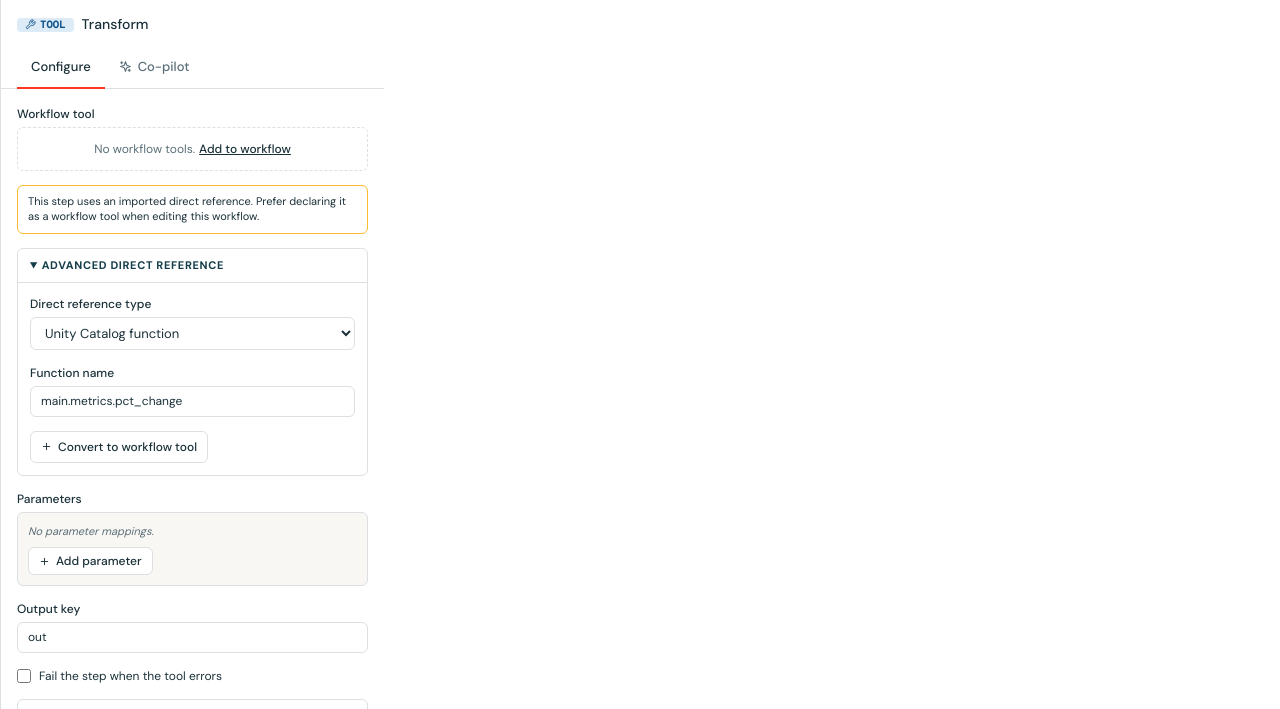
Test: ToolStepForm signature mapping › prefills the picker with a direct ref FQN when converting
Click the button "Convert to workflow tool". click: (119, 447)
box: [30,431,208,463]
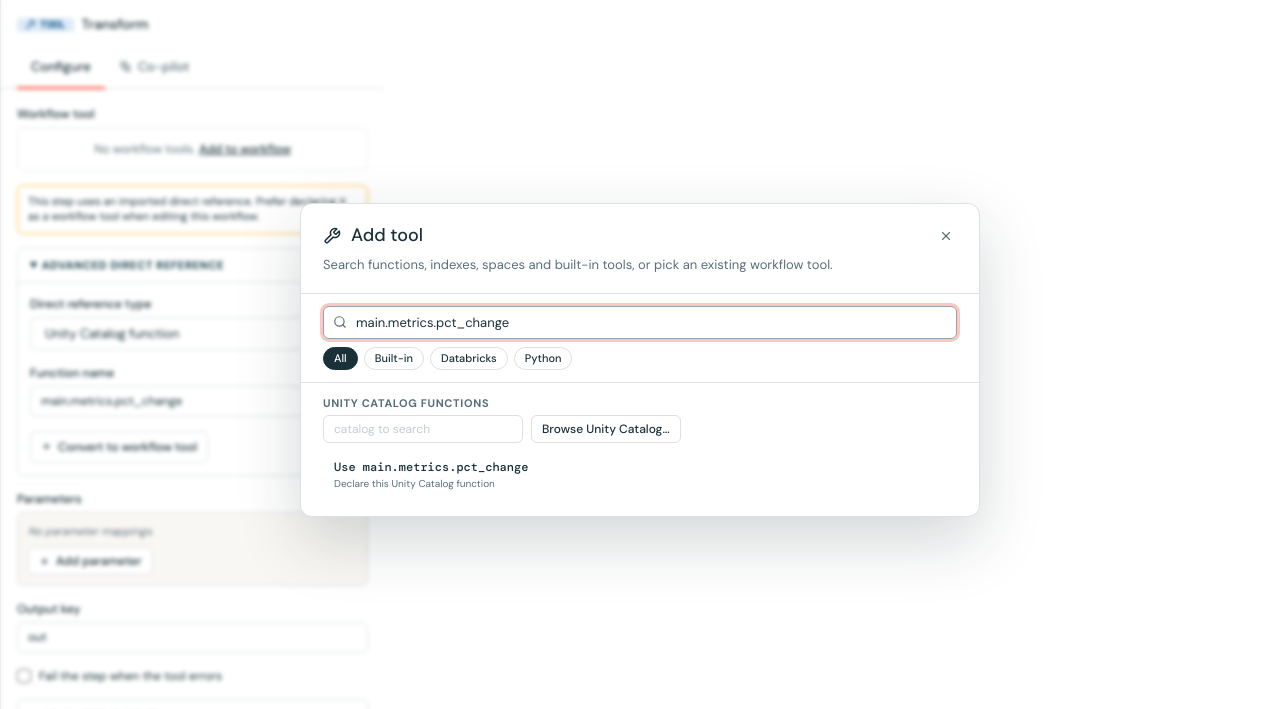
Result: the field named "Search tools" holds "main.metrics.pct_change" at [323,306,957,339]
